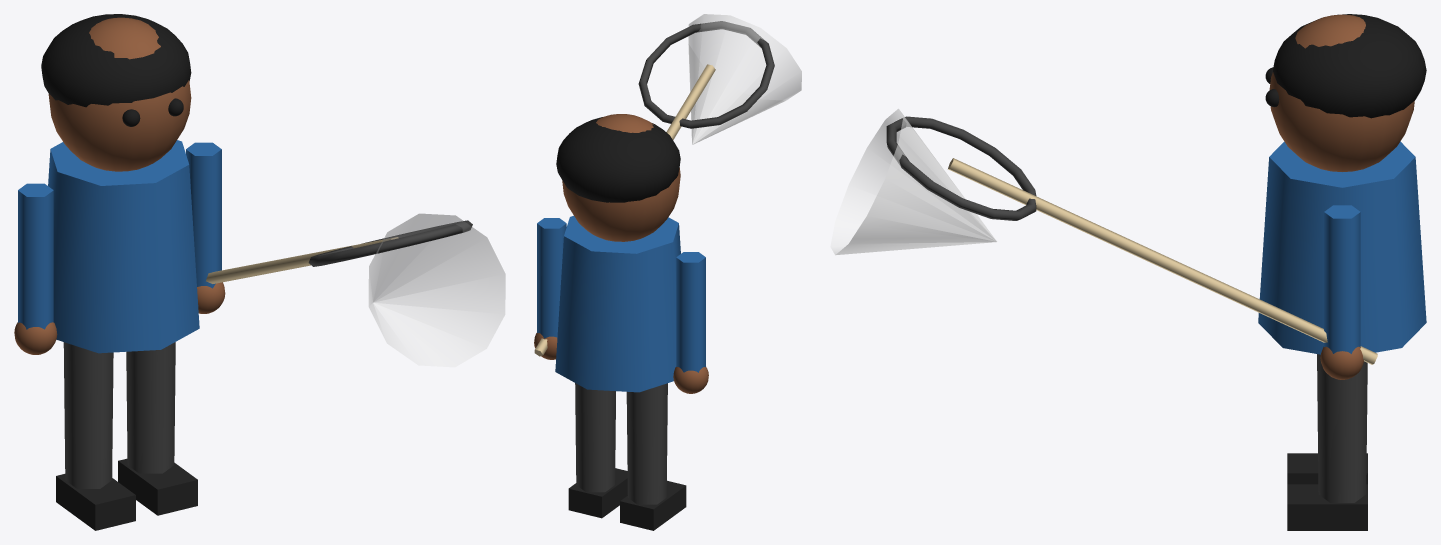
File: kid_net_0.glb
3 views of the same model, side by side, from view 1: azimuth 30°, elevation 25°; view 2: azimuth 150°, elevation 25°; view 3: azimuth 270°, elevation 25° (orthographic). The views are drawn at different scales.
Visible parts, largest first — view 1: object 1, armR, head, legL, legR, armL; view 2: object 1, armR, head, legL, legR, armL; view 3: armR, object 1, head, legR, legL.
Part boxes in pixels (<box>): object 1: <box>48,140,199,353</box>; armR: <box>186,142,505,367</box>; head: <box>41,14,191,171</box>; legL: <box>56,342,135,530</box>; legR: <box>118,342,197,515</box>; armL: <box>14,183,57,354</box>; object 1: <box>555,215,680,392</box>; armR: <box>534,14,801,359</box>; head: <box>556,114,680,241</box>; legL: <box>620,383,686,530</box>; legR: <box>568,383,627,518</box>; armL: <box>673,252,708,393</box>; armR: <box>830,109,1377,379</box>; object 1: <box>1258,141,1426,354</box>; head: <box>1265,14,1426,171</box>; legR: <box>1287,354,1367,530</box>; legL: <box>1287,453,1367,484</box>.
Size of the model in its own units: 0.835 by 1.46 by 1.63.
